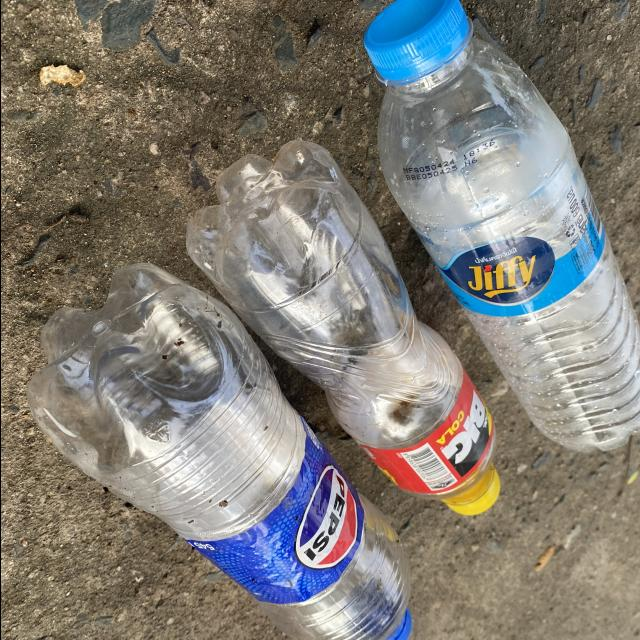plastik: (27, 264, 411, 640), (364, 0, 640, 451), (186, 141, 499, 515)
